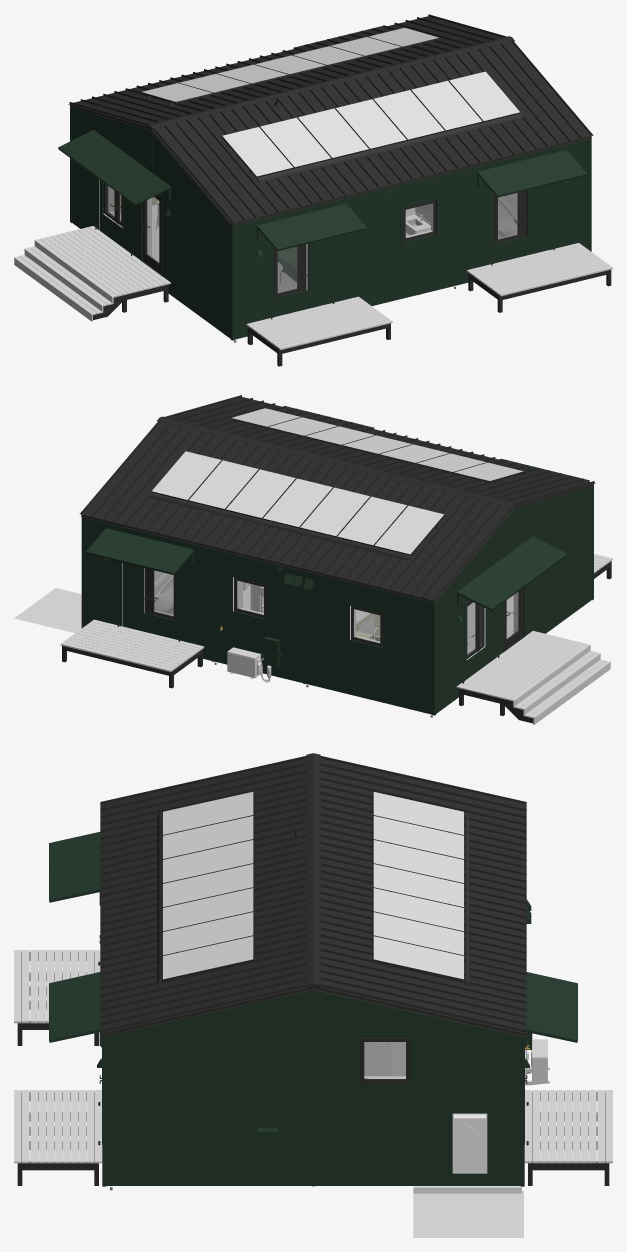
3 renders of one model, top to bottom at view 1: azimuth 30°, elevation 25°; view 2: azimuth 150°, elevation 25°; view 3: azimuth 270°, elevation 25°, orthographic. The views are drawn at different scales.
Parts seen in each view (by area): view 1: Roof_2BA, Wall_e_LDRDR_2BA, Wall_e_RightWindow_2BA, SP_Right_1B, Wall_e_LDRWR_2BA, Deck_2BA, Wall_e_LWRDR_2BA, Awning_LDRDR_2BA, SP_Left_1B, Deck_LWRDR_2BA, Deck_LDRWR_2BA, Awning_2BA (+19 smaller); view 2: Roof_2BA, Wall_e_FrontDoor_2BA, Wall_e_RightWindow_2BA, SP_Left_1B, Wall_e_FrontWindow_2BA, Deck_2BA, SP_Right_1B, Deck_FrontDoor_2BA, Awning_2BA, Awning_FrontDoor_2BA, Tesla_shadow, Shield_Left_1B (+18 smaller); view 3: Roof_2BA, Wall_e_2BA, SP_Right_1B, SP_Left_1B, Deck_FrontDoor_2BA, Deck_LDRWR_2BA, Awning_LDRDR_2BA, Tesla_shadow, Deck_LWRDR_2BA, Awning_FrontDoor_2BA, Tesla_powerwall, Glass_W_2BA (+12 smaller).
Part boxes in pixels (x1,y1,x2,y2): Roof_2BA: (68, 14, 593, 225); Wall_e_LDRDR_2BA: (235, 139, 588, 339); Wall_e_RightWindow_2BA: (72, 108, 230, 338); SP_Right_1B: (221, 71, 520, 177); Wall_e_LDRWR_2BA: (235, 158, 588, 328); Deck_2BA: (14, 226, 170, 321); Wall_e_LWRDR_2BA: (275, 139, 588, 304); Awning_LDRDR_2BA: (257, 150, 587, 251); SP_Left_1B: (141, 27, 439, 103); Deck_LWRDR_2BA: (247, 296, 392, 350); Deck_LDRWR_2BA: (467, 243, 612, 296); Awning_2BA: (58, 130, 170, 205); Roof_2BA: (80, 395, 595, 602); Wall_e_FrontDoor_2BA: (84, 517, 431, 714); Wall_e_RightWindow_2BA: (436, 487, 591, 713); SP_Left_1B: (151, 451, 444, 555); Wall_e_FrontWindow_2BA: (84, 518, 431, 714); Deck_2BA: (456, 631, 610, 724); SP_Right_1B: (230, 408, 524, 482); Deck_FrontDoor_2BA: (60, 619, 204, 672); Awning_2BA: (457, 536, 567, 610); Awning_FrontDoor_2BA: (86, 528, 193, 574); Tesla_shadow: (14, 588, 81, 632); Shield_Left_1B: (149, 492, 410, 560); Roof_2BA: (100, 753, 526, 1036); Wall_e_2BA: (106, 990, 520, 1185); SP_Right_1B: (162, 791, 254, 981); SP_Left_1B: (372, 791, 464, 981); Deck_FrontDoor_2BA: (524, 1090, 612, 1163); Deck_LDRWR_2BA: (14, 1090, 102, 1163); Awning_LDRDR_2BA: (49, 832, 102, 1046); Tesla_shadow: (413, 1186, 523, 1237); Deck_LWRDR_2BA: (14, 950, 100, 1021); Awning_FrontDoor_2BA: (524, 972, 577, 1047); Tesla_powerwall: (452, 1113, 487, 1173); Glass_W_2BA: (364, 1042, 405, 1078).
Bounding box in the file's own units: 13.8 × 4.26 × 10.82.
